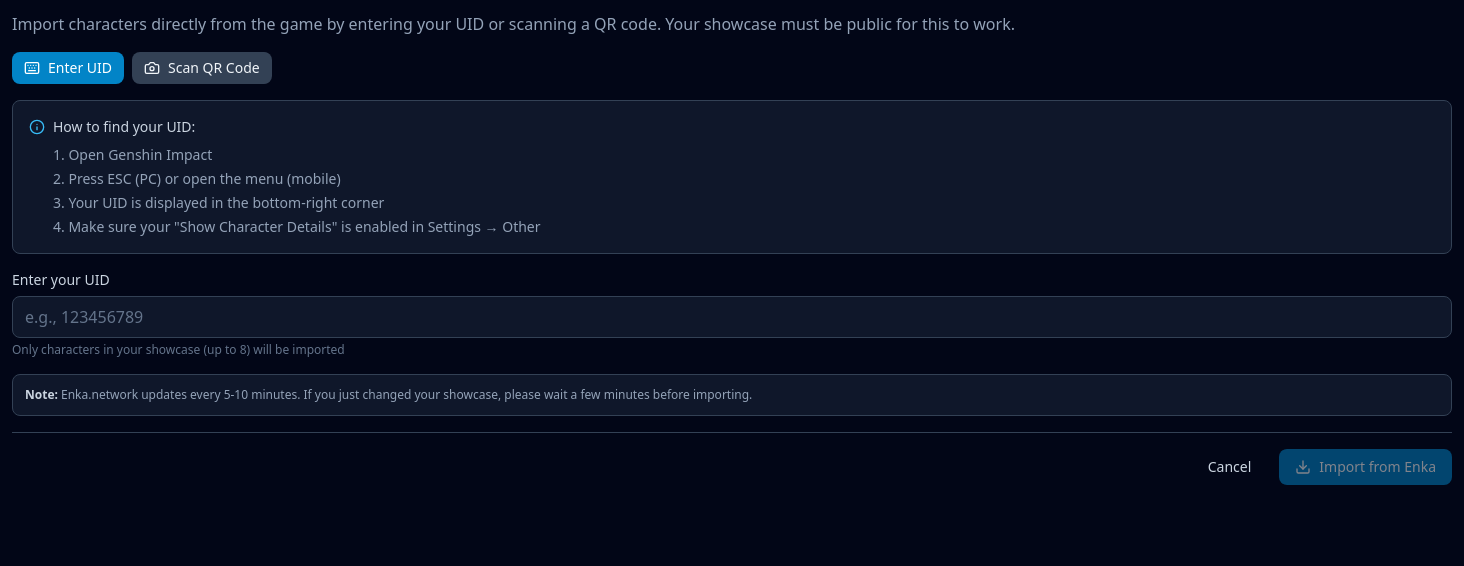
Test: EnkaImport › shows error when no characters are found in the showcase
Type "123456789" into the field labelled "Enter your UID" at (732, 317), box [12, 296, 1452, 338]
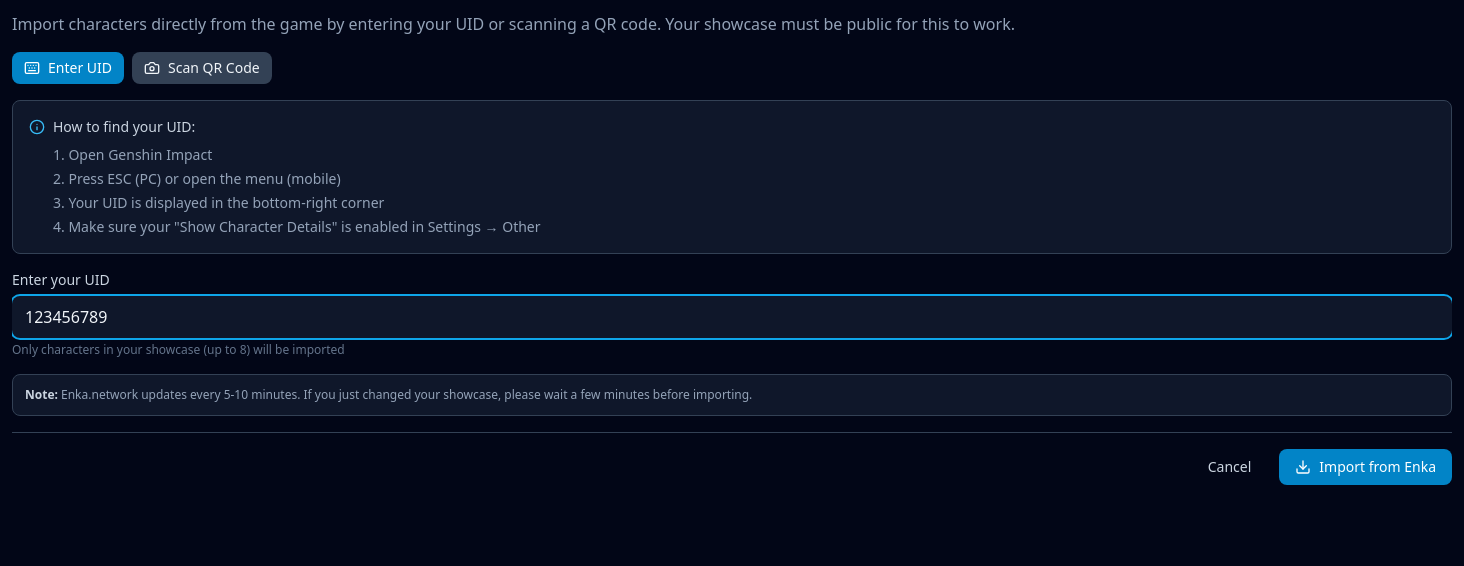
Click the button "Import from Enka" at (1366, 467), box [1279, 449, 1452, 485]
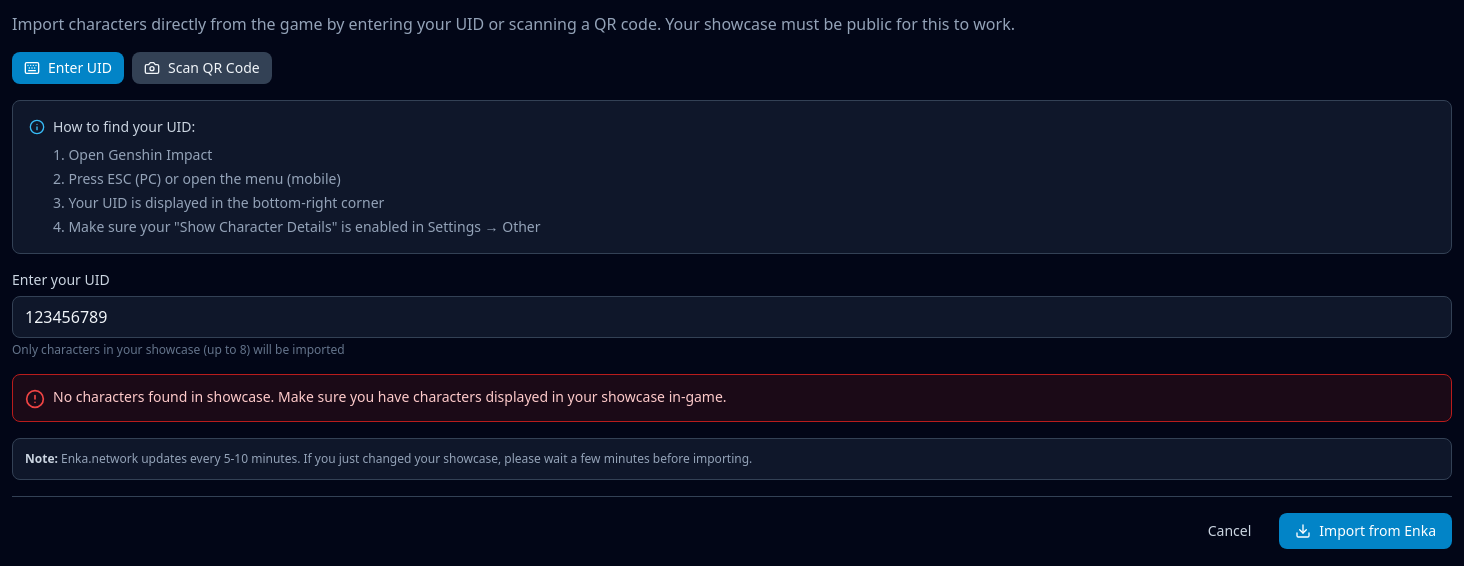
expect the text "No characters found in showcase" is shown: met, box [53, 387, 727, 406]
